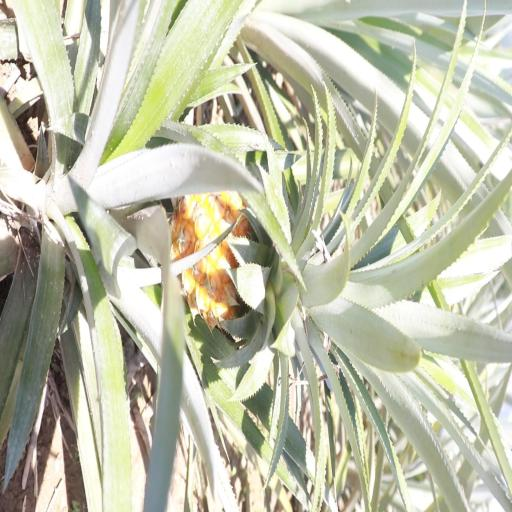Pineapple - v8 v1: (174, 185, 422, 373)
